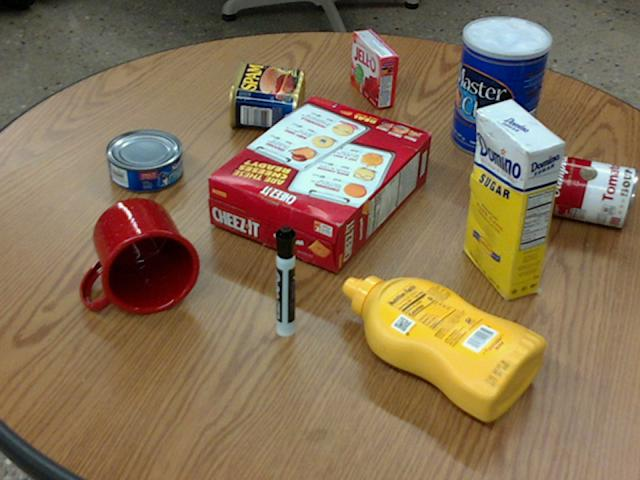cracker_box: (206, 96, 430, 272)
gelatin_box: (351, 29, 397, 107)
large_marker: (274, 225, 294, 336)
master_chef_can: (451, 17, 551, 158)
mug: (79, 198, 198, 314)
mustard_bottle: (342, 276, 544, 420)
potted_meat_can: (228, 60, 304, 129)
sugar_box: (465, 99, 563, 300)
tomato_soup_can: (530, 150, 635, 225)
tuna_fish_can: (105, 128, 181, 190)
